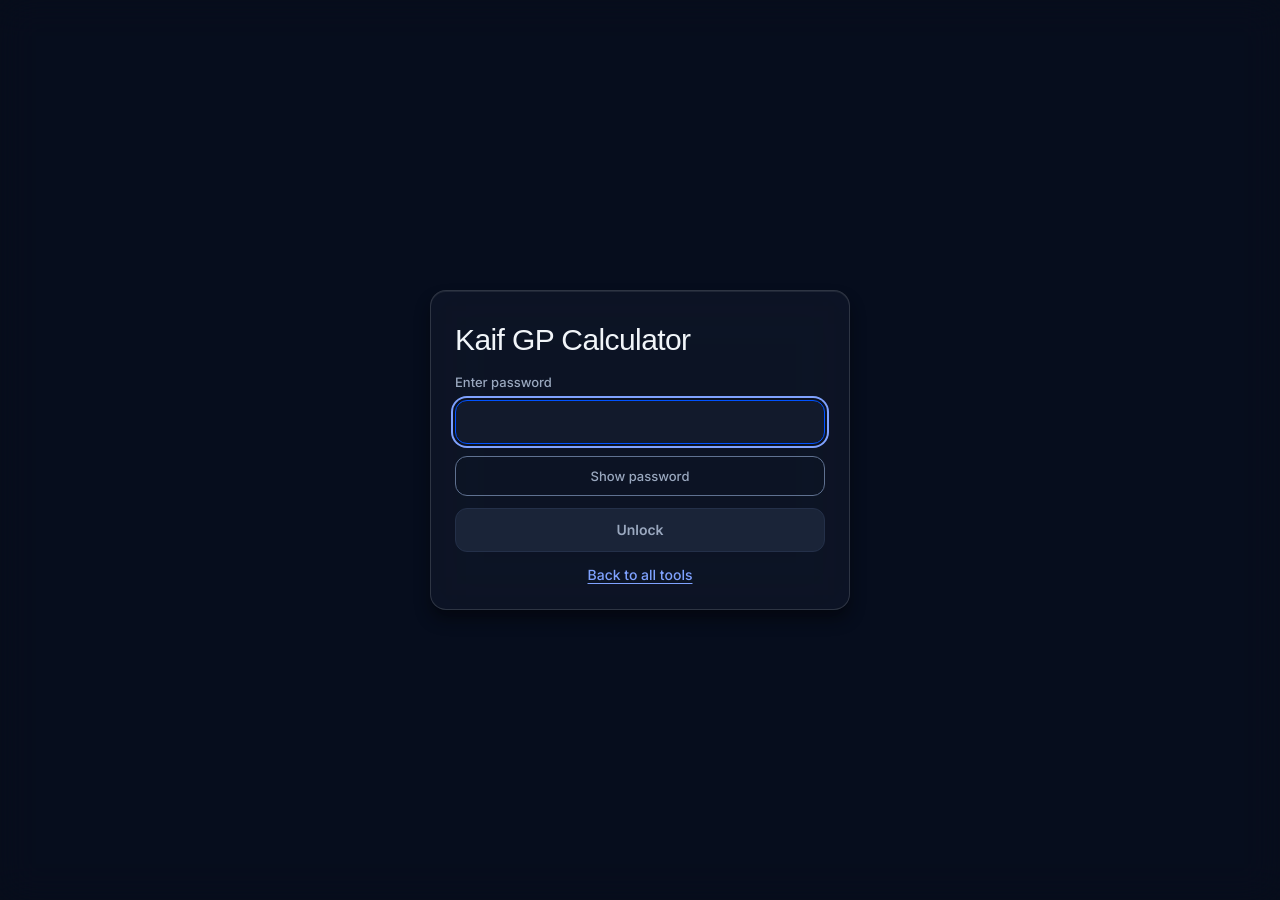
Test: LockedScreen › explains a network failure instead of throwing
Type "anything" into the password field labelled "Enter password". click: (640, 422)
box: [455,400,825,444]
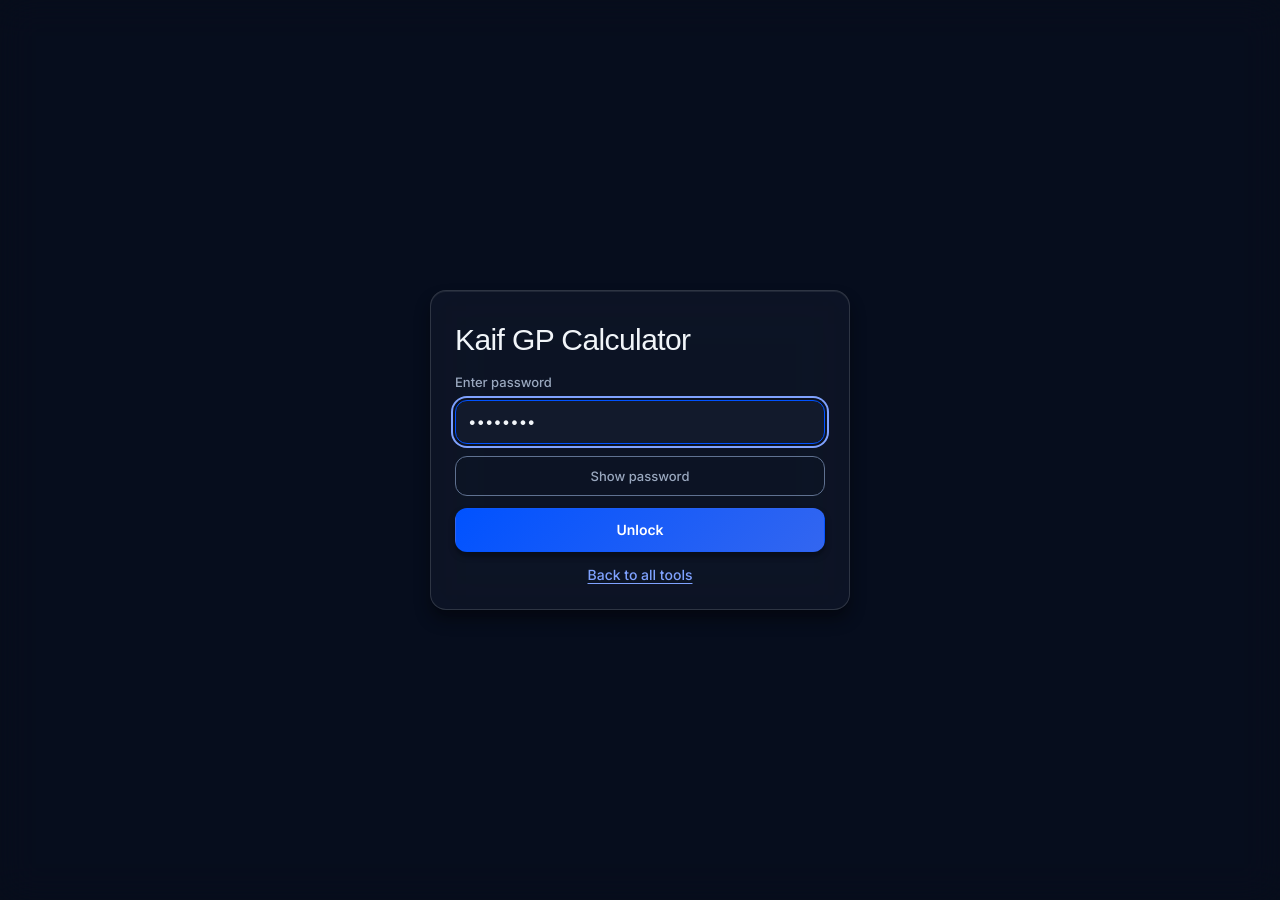
Click the button "Unlock". click: (640, 530)
box: [455,508,825,552]
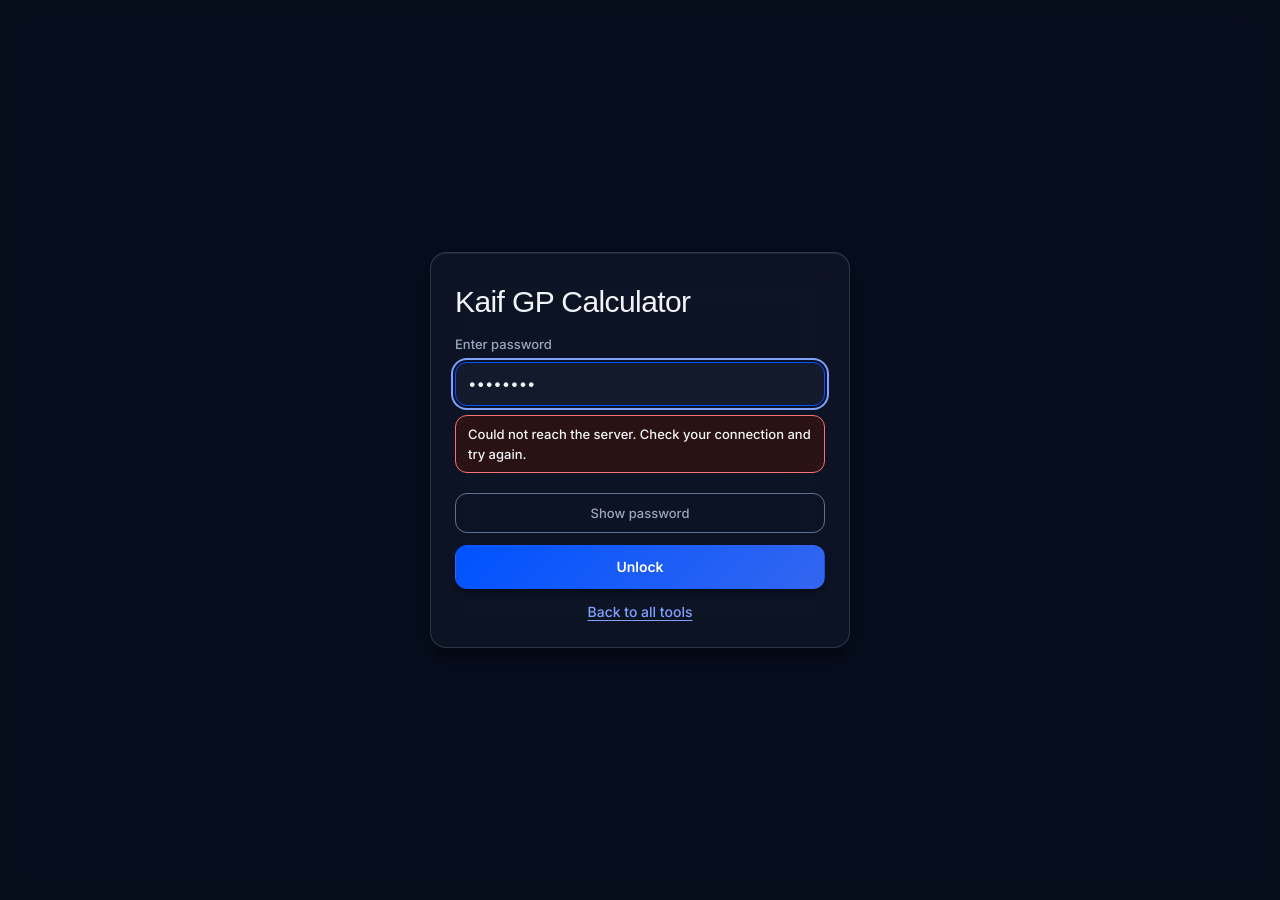
Expected: the message shows "Could not reach the server", [468,426,811,462]
